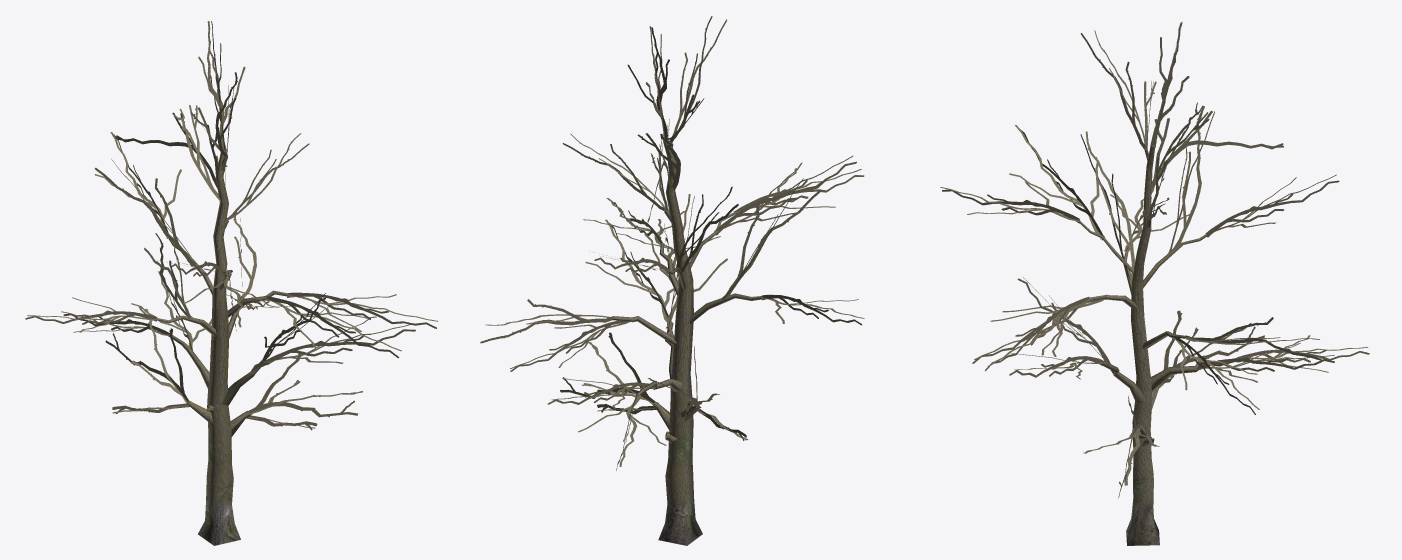
Rendered from GenericDead.glb.
3 renders of one model, left to right at view 1: azimuth 30°, elevation 25°; view 2: azimuth 150°, elevation 25°; view 3: azimuth 270°, elevation 25°, orthographic. The views are drawn at different scales.
Visible parts, largest first — view 1: Generic_Dead_Tree__Realistic_LOD2; view 2: Generic_Dead_Tree__Realistic_LOD2; view 3: Generic_Dead_Tree__Realistic_LOD2.
Part boxes in pixels (left/top/right/bottom): Generic_Dead_Tree__Realistic_LOD2: left=25, top=21, right=438, bottom=545; Generic_Dead_Tree__Realistic_LOD2: left=480, top=16, right=864, bottom=545; Generic_Dead_Tree__Realistic_LOD2: left=940, top=22, right=1369, bottom=545.
Bounding box in the file's own units: 16.86 × 22.46 × 18.06.
1 material, 1 textured.
